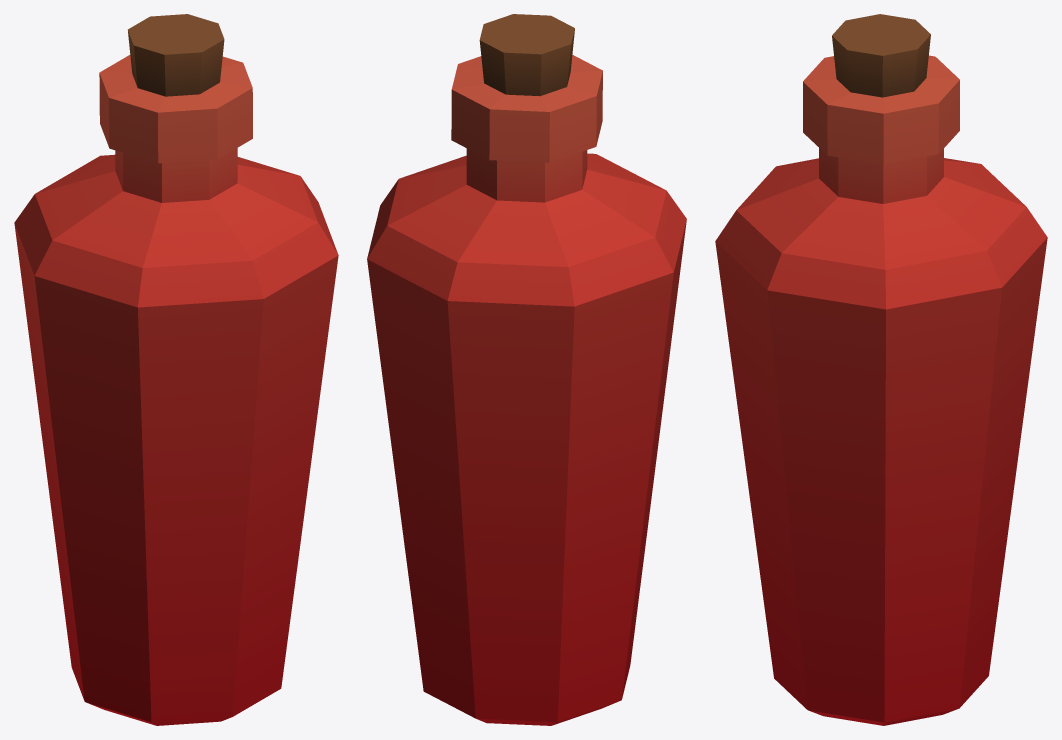
Rendered from health_small.glb.
3 renders of one model, left to right at view 1: azimuth 30°, elevation 25°; view 2: azimuth 150°, elevation 25°; view 3: azimuth 270°, elevation 25°, orthographic.
Visible parts, largest first — view 1: potion_017_red; view 2: potion_017_red; view 3: potion_017_red.
Part boxes in pixels (x1,y1,x2,y2): potion_017_red: [14, 14, 338, 725]; potion_017_red: [367, 14, 686, 725]; potion_017_red: [715, 14, 1047, 725].
Bounding box in the file's own units: 0.1351 × 0.2937 × 0.1351.
Materials: 1 (1 with a texture image).
